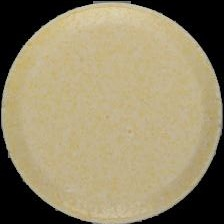68645-272: (0, 0, 224, 224)
